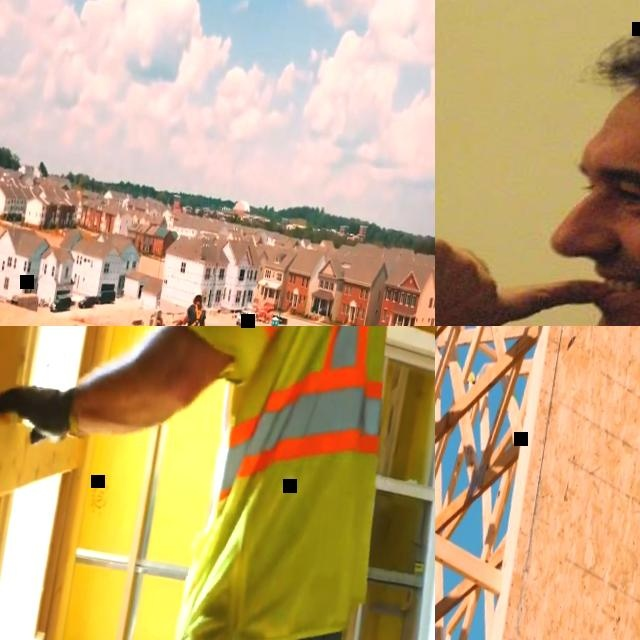Hardhat: (192, 290, 204, 304)
NO-Safety Vest: (184, 305, 204, 326)
Person: (0, 326, 417, 640), (435, 0, 640, 326), (169, 287, 210, 326)
Safety Vest: (124, 326, 429, 640)
machinery: (254, 303, 274, 325)
vehicle: (49, 294, 72, 315), (235, 308, 257, 326), (96, 288, 117, 306), (78, 294, 97, 310)
